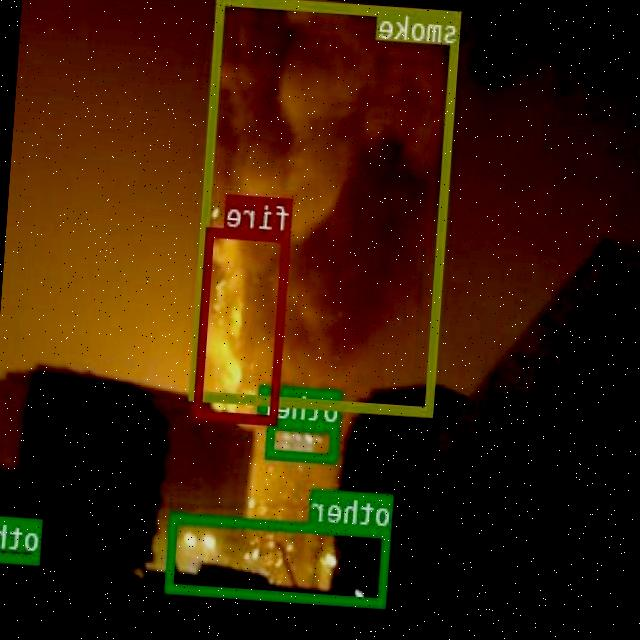fire: (196, 226, 292, 424)
smoke: (190, 0, 463, 415)
